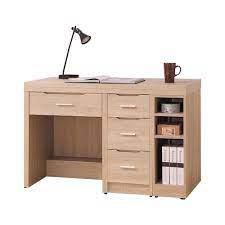desk: (12, 59, 209, 205)
